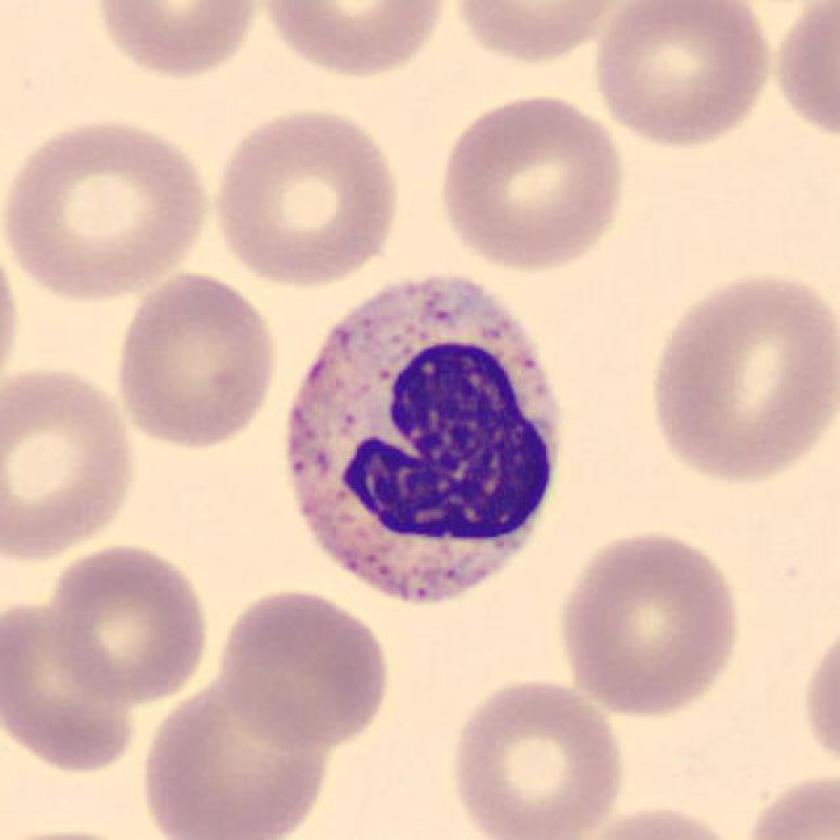neutrophil: (294, 278, 560, 597)
